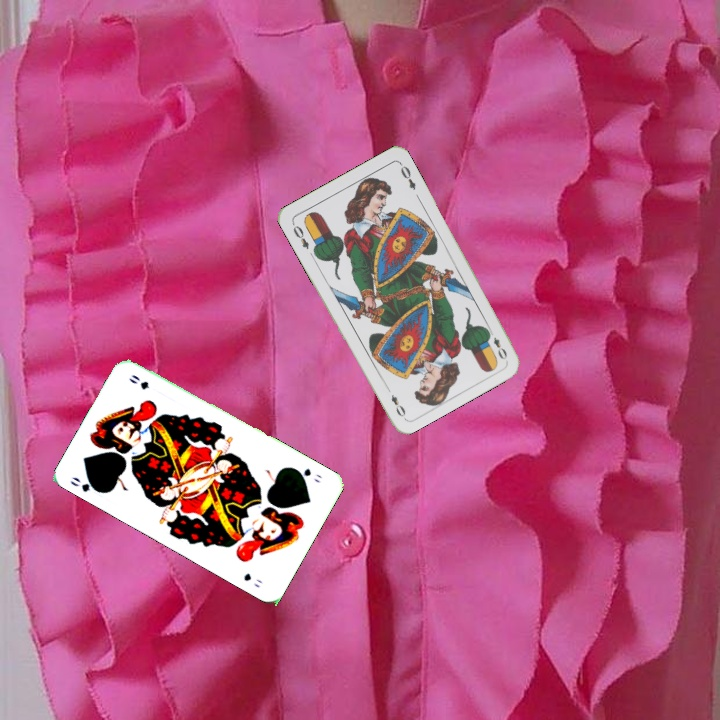EO: (484, 325, 510, 362), (288, 219, 312, 252)
GO: (65, 473, 105, 496), (290, 464, 324, 486)
